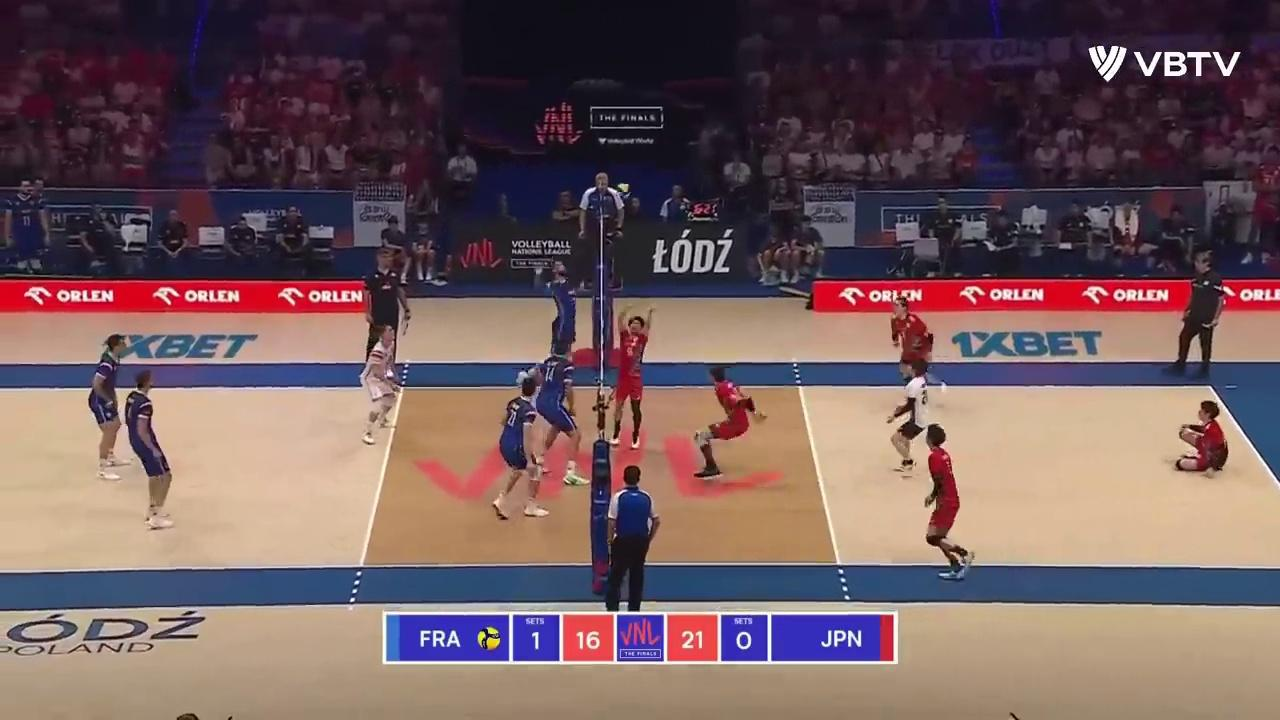ball: (616, 183, 632, 198)
